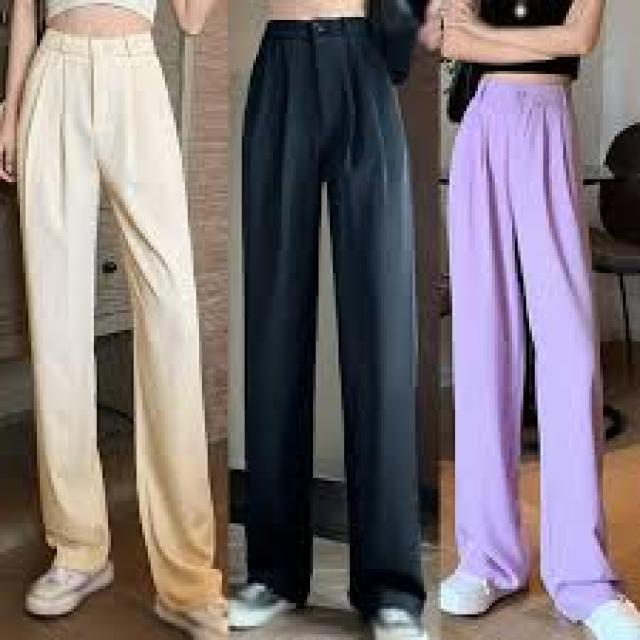long-pants: (17, 26, 227, 613), (241, 17, 428, 619), (449, 82, 623, 626)
